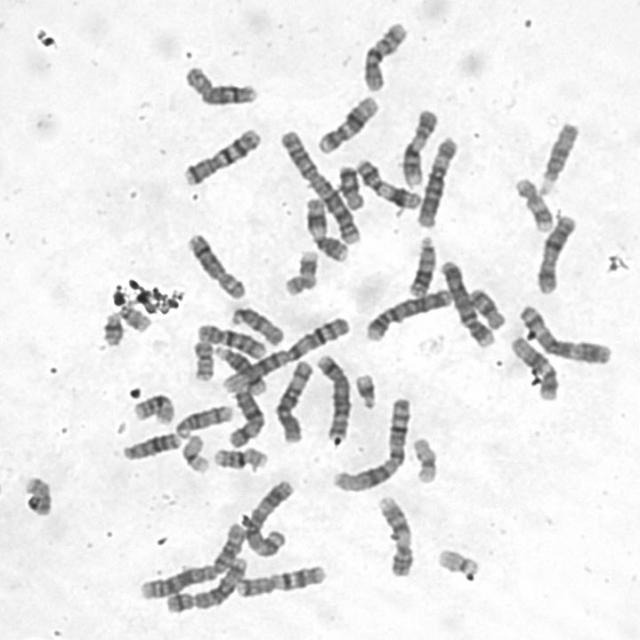A1: (215, 312, 352, 394), (328, 392, 413, 494)
A2: (275, 124, 362, 247), (134, 517, 248, 601)
A3: (514, 300, 614, 366), (238, 474, 296, 558)
B4: (435, 254, 497, 350), (360, 283, 454, 343)
B5: (162, 552, 250, 614), (311, 350, 353, 442)
C10: (357, 15, 410, 93), (192, 319, 268, 360)
C11: (351, 153, 424, 210), (300, 191, 350, 264)
C12: (312, 90, 381, 155), (506, 330, 560, 402)
C6: (411, 131, 460, 230), (270, 354, 316, 444)
C7: (177, 122, 264, 187), (232, 560, 328, 598)
C8: (182, 227, 248, 300), (179, 59, 260, 108)
C9: (373, 490, 416, 578), (397, 104, 441, 188)
D13: (403, 230, 439, 298), (118, 425, 182, 462)
D14: (209, 340, 269, 394), (169, 400, 235, 440)
D15: (533, 116, 581, 196), (225, 302, 287, 346)
E16: (208, 442, 270, 472), (128, 388, 176, 426)
E17: (510, 172, 555, 233), (278, 245, 320, 297)
E18: (464, 282, 506, 330), (332, 160, 365, 211)
F19: (407, 432, 440, 485), (177, 429, 211, 475)
F20: (19, 470, 54, 518), (188, 335, 215, 382)
G21: (97, 306, 125, 348), (350, 369, 378, 410)
G22: (432, 542, 482, 579), (114, 300, 152, 333)
X: (532, 209, 578, 295), (224, 383, 266, 448)
